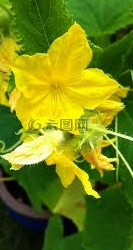cucumber_plant: (1, 19, 129, 225)
